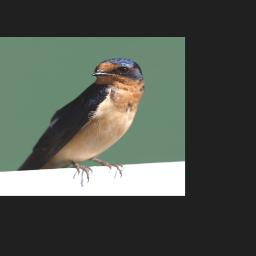Swallow: (17, 57, 143, 183)
